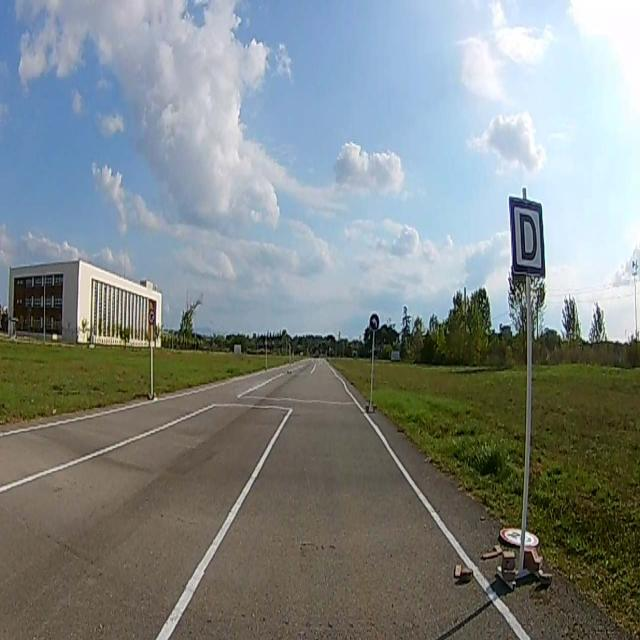durak: (508, 196, 544, 278)
